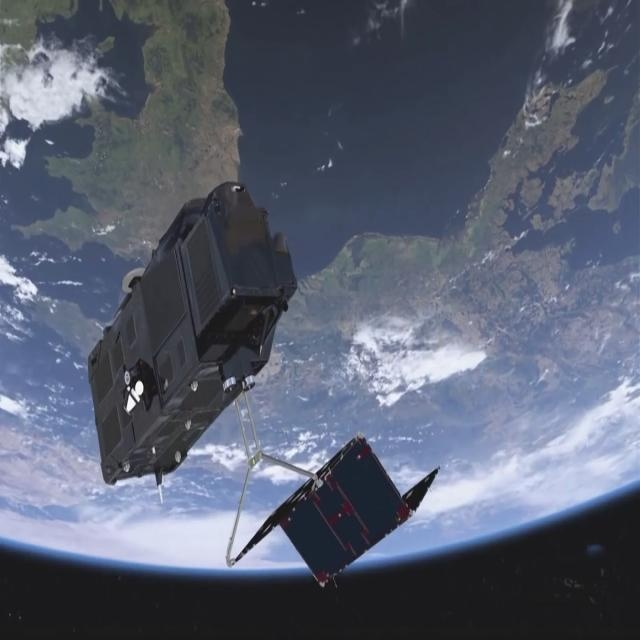satellite: (69, 169, 459, 607)
